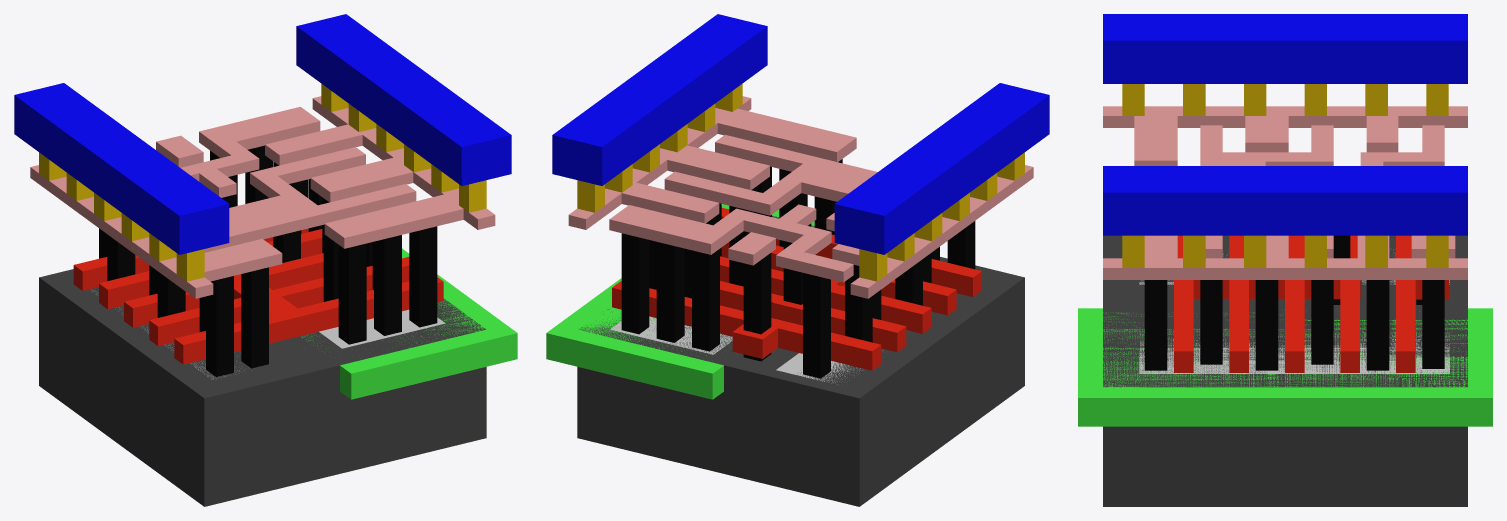
The model's file is sky130_fd_sc_hd__buf_4.obj.
The picture shows the model from 3 angles, left to right: view 1: azimuth 30°, elevation 25°; view 2: azimuth 150°, elevation 25°; view 3: azimuth 270°, elevation 25°; orthographic projection. The views are drawn at different scales.
Parts seen in each view (by area): view 1: subs, metal1, li, licon, poly, nwell, mcon, tap; view 2: subs, metal1, li, licon, poly, nwell, mcon, tap, diff; view 3: metal1, subs, nwell, li, licon, poly, mcon, tap.
Boxes of the visible parts, box(x1,y1,x2,y2) form: subs: box(39, 269, 486, 506); metal1: box(14, 14, 511, 254); li: box(30, 96, 495, 298); licon: box(99, 145, 437, 376); poly: box(73, 228, 443, 364); nwell: box(301, 248, 517, 399); mcon: box(39, 83, 486, 281); tap: box(319, 309, 445, 348); subs: box(577, 216, 1024, 506); metal1: box(552, 14, 1049, 254); li: box(568, 96, 1033, 298); licon: box(621, 159, 975, 378); poly: box(612, 207, 981, 370); nwell: box(546, 204, 814, 399); mcon: box(577, 83, 1024, 281); tap: box(610, 316, 732, 354); diff: box(776, 350, 882, 383); metal1: box(1103, 14, 1467, 235); subs: box(1103, 235, 1467, 506); nwell: box(1078, 308, 1492, 426); li: box(1103, 106, 1467, 279); licon: box(1144, 235, 1444, 370); poly: box(1174, 235, 1449, 372); mcon: box(1122, 84, 1448, 267); tap: box(1139, 329, 1449, 373).
Bounding box in the file's own units: 3.2 × 2.74 × 3.14.
